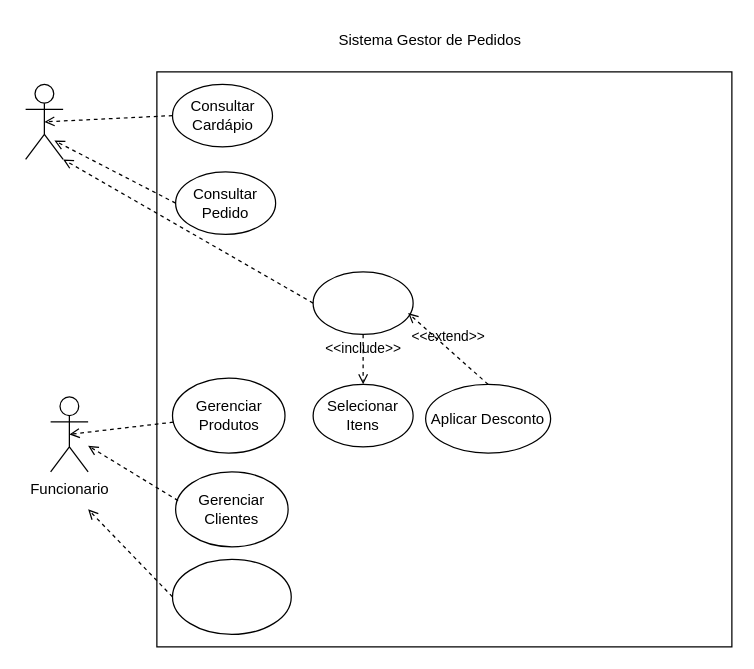
Some shapes in this 754 by 669 pixel diagram are drawn without their labels. Here are the shapes that lost their labels. From the top down, the box of each, then its label:
(24, 83, 63, 159): Cliente
(312, 271, 413, 334): Fazer Pedido
(171, 558, 291, 634): Processar Pedido
